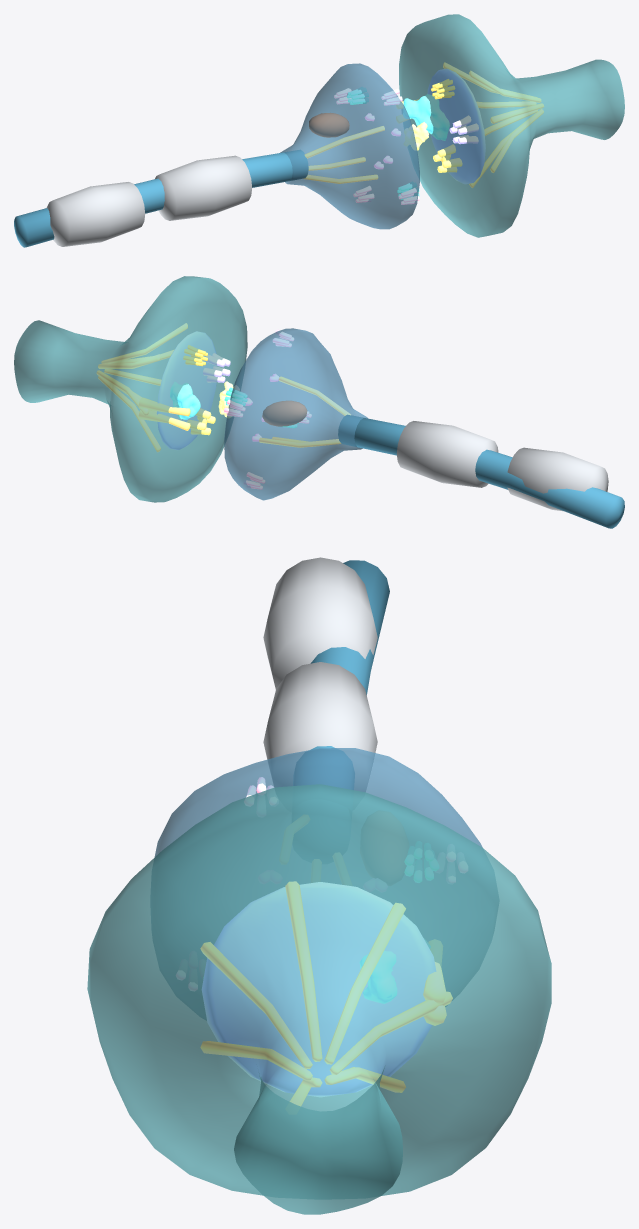
The model's file is synapse_hero.glb.
3 renders of one model, top to bottom at view 1: azimuth 30°, elevation 25°; view 2: azimuth 150°, elevation 25°; view 3: azimuth 270°, elevation 25°, orthographic. The views are drawn at different scales.
Visible parts, largest first — view 1: Postsynaptic_Dendritic_Spine, Presynaptic_Bouton, Myelin_Sheaths, Neuron_Axon_Shaft, Postsynaptic_PSD95_Plaque, Postsynaptic_Actin_Skeleton, Receptors_AMPA, Presynaptic_Microtubules, Channel_CaV_Group, Presynaptic_Mitochondrion, Receptors_GABAA, BDNF_Homodimer_1B8M (+3 smaller); view 2: Postsynaptic_Dendritic_Spine, Presynaptic_Bouton, Myelin_Sheaths, Neuron_Axon_Shaft, Postsynaptic_PSD95_Plaque, Postsynaptic_Actin_Skeleton, Presynaptic_Microtubules, Presynaptic_Mitochondrion, Channel_CaV_Group, Receptors_AMPA, Receptors_GABAA, Receptors_TrkB_R (+3 smaller); view 3: Postsynaptic_Dendritic_Spine, Postsynaptic_PSD95_Plaque, Myelin_Sheaths, Presynaptic_Bouton, Postsynaptic_Actin_Skeleton, Neuron_Axon_Shaft, Receptors_AMPA.
Boxes of the visible parts, x1,y1,x2,y2 form: Postsynaptic_Dendritic_Spine: (399,14,624,237); Presynaptic_Bouton: (280,63,419,229); Myelin_Sheaths: (46,155,252,246); Neuron_Axon_Shaft: (14,149,308,247); Postsynaptic_PSD95_Plaque: (427,69,485,183); Postsynaptic_Actin_Skeleton: (443,62,543,187); Receptors_AMPA: (403,94,449,140); Presynaptic_Microtubules: (303,126,384,183); Channel_CaV_Group: (334,87,419,204); Presynaptic_Mitochondrion: (309,113,349,137); Receptors_GABAA: (449,115,478,144); BDNF_Homodimer_1B8M: (404,122,428,150); Postsynaptic_Dendritic_Spine: (14,276,247,502); Presynaptic_Bouton: (224,328,367,500); Myelin_Sheaths: (396,421,608,511); Neuron_Axon_Shaft: (338,414,624,528); Postsynaptic_PSD95_Plaque: (157,331,217,449); Postsynaptic_Actin_Skeleton: (96,323,187,451); Presynaptic_Microtubules: (259,376,350,447); Presynaptic_Mitochondrion: (262,400,307,426); Channel_CaV_Group: (224,329,311,489); Receptors_AMPA: (170,382,200,419); Receptors_GABAA: (203,353,230,382); Receptors_TrkB_R: (139,398,190,416); Postsynaptic_Dendritic_Spine: (87,784,551,1214); Postsynaptic_PSD95_Plaque: (202,882,435,1096); Myelin_Sheaths: (263,557,377,791); Presynaptic_Bouton: (154,748,482,856); Postsynaptic_Actin_Skeleton: (200,881,452,1106); Neuron_Axon_Shaft: (293,560,389,789); Receptors_AMPA: (360,940,430,1003).
Size of the model in its own units: 2.94 by 0.9738 by 1.01.
